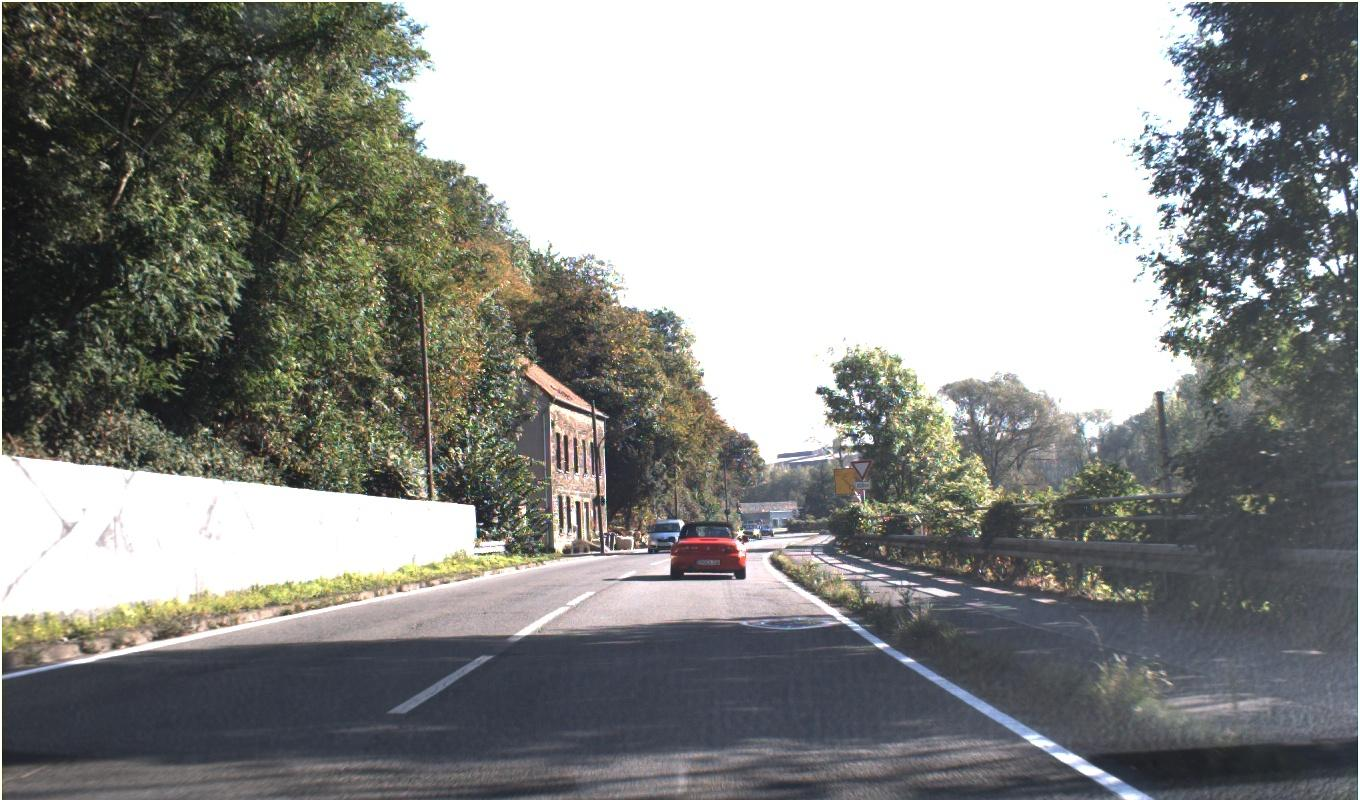give way: (413, 218, 1285, 698)
